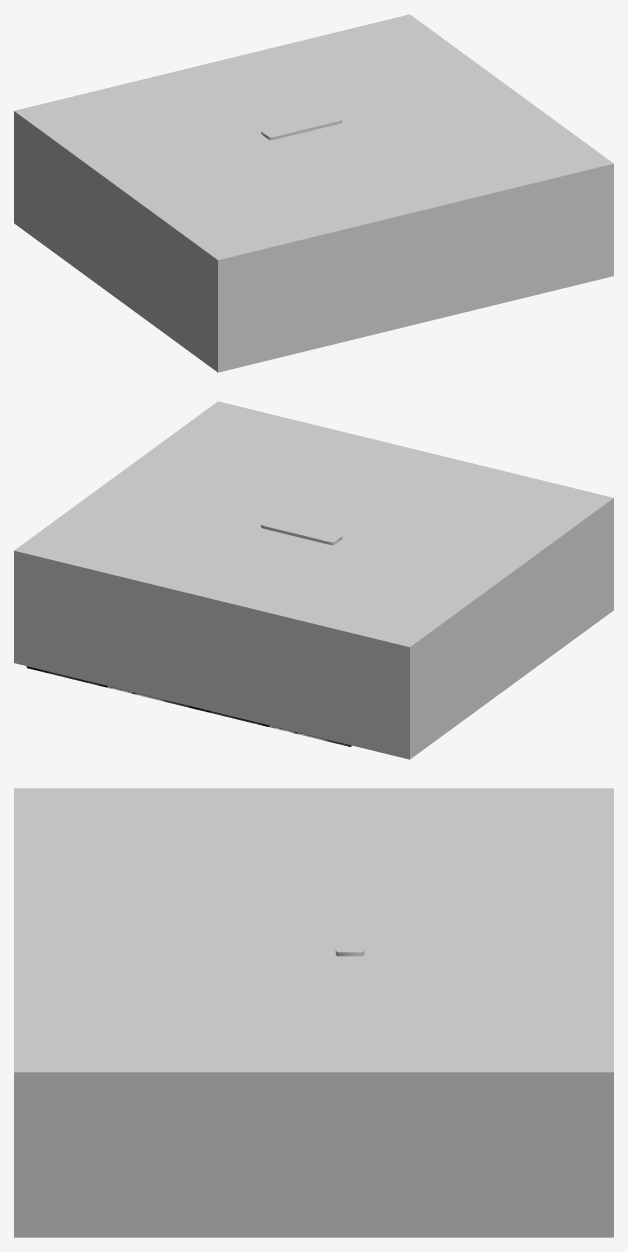
File: Pharmacy.fbx
The picture shows the model from 3 angles, top to bottom: view 1: azimuth 30°, elevation 25°; view 2: azimuth 150°, elevation 25°; view 3: azimuth 270°, elevation 25°; orthographic projection. The views are drawn at different scales.
Visible parts, largest first — view 1: Walls, Light; view 2: Walls, Light; view 3: Walls, Light.
Boxes of the visible parts, left/top/right/bottom form: Walls: left=14, top=14, right=613, bottom=372; Light: left=261, top=113, right=342, bottom=140; Walls: left=14, top=401, right=613, bottom=759; Light: left=261, top=518, right=342, bottom=545; Walls: left=14, top=788, right=613, bottom=1237; Light: left=335, top=900, right=364, bottom=956.
Bounding box in the file's own units: 2609 × 742 × 2329.
